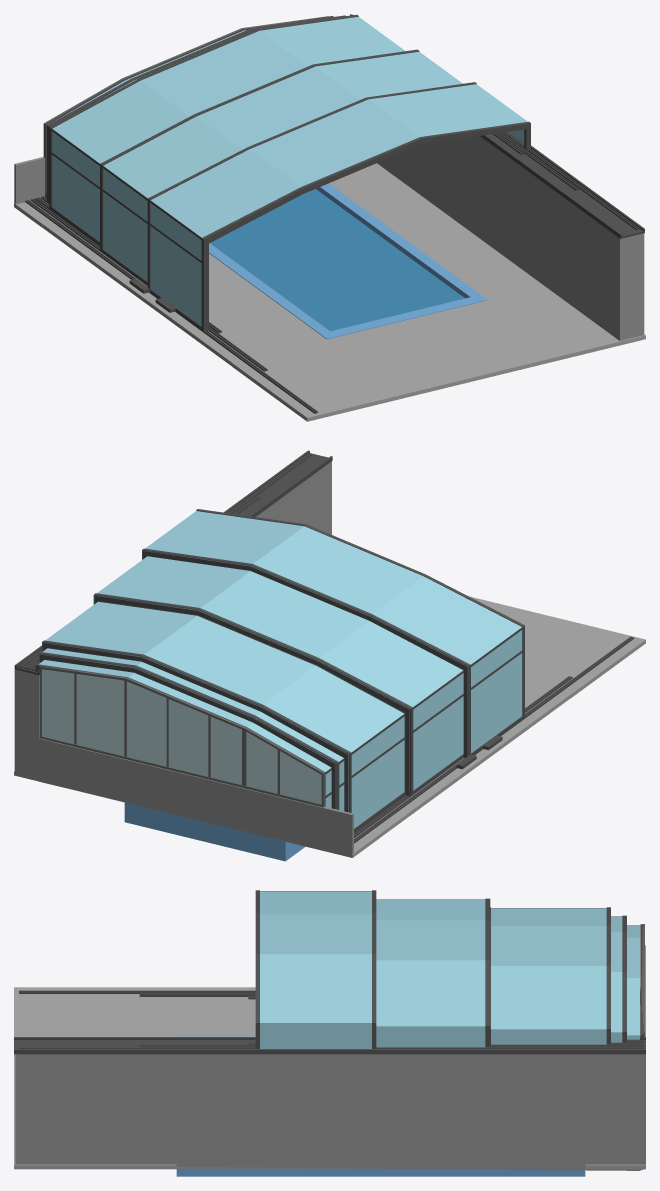
Rendered from abris.glb.
The picture shows the model from 3 angles, top to bottom: view 1: azimuth 30°, elevation 25°; view 2: azimuth 150°, elevation 25°; view 3: azimuth 270°, elevation 25°; orthographic projection. The views are drawn at different scales.
Parts seen in each view (by area): view 1: entity_1, Box283, Box153, Box004, Box076, Box075, Box285, Box284, Box001, Box053, Box003, Box079 (+3 smaller); view 2: Box004, Box076, Box075, Box153, entity_1, Box283, Line010, Box053, Box003, Box284, Box079, Box103 (+12 smaller); view 3: Box153, Box004, Box075, Box076, entity_1, Box283, Box284, Box125, Box150, Box053, Box001, Box003 (+2 smaller).
Part boxes in pixels (left/top/right/bottom): entity_1: left=25, top=14, right=644, bottom=413; Box283: left=232, top=291, right=645, bottom=421; Box153: left=14, top=136, right=644, bottom=340; Box004: left=150, top=84, right=527, bottom=326; Box076: left=52, top=16, right=405, bottom=241; Box075: left=103, top=51, right=462, bottom=281; Box285: left=329, top=163, right=550, bottom=299; Box284: left=42, top=220, right=331, bottom=365; Box001: left=149, top=121, right=530, bottom=331; Box053: left=100, top=49, right=419, bottom=251; Box003: left=147, top=82, right=476, bottom=289; Box079: left=49, top=14, right=358, bottom=206; Box004: left=142, top=511, right=522, bottom=756; Box076: left=42, top=601, right=404, bottom=828; Box075: left=94, top=556, right=463, bottom=795; Box153: left=14, top=461, right=353, bottom=857; entity_1: left=14, top=450, right=633, bottom=861; Box283: left=469, top=596, right=645, bottom=698; Line010: left=76, top=674, right=124, bottom=755; Box053: left=93, top=593, right=413, bottom=796; Box003: left=142, top=548, right=470, bottom=757; Box284: left=363, top=677, right=576, bottom=836; Box079: left=42, top=640, right=351, bottom=812; Box103: left=39, top=652, right=339, bottom=809; Box153: left=15, top=945, right=645, bottom=1170; Box004: left=260, top=891, right=371, bottom=1048; Box075: left=376, top=899, right=485, bottom=1047; Box076: left=491, top=908, right=606, bottom=1044; entity_1: left=14, top=990, right=645, bottom=1176; Box283: left=14, top=987, right=176, bottom=1169; Box284: left=163, top=987, right=255, bottom=1036; Box125: left=611, top=916, right=622, bottom=1042; Box150: left=627, top=925, right=639, bottom=1039; Box053: left=485, top=898, right=490, bottom=1047; Box001: left=255, top=890, right=259, bottom=1048; Box003: left=372, top=890, right=376, bottom=1048.
Bounding box in the file's own units: 439 × 239 × 659.
